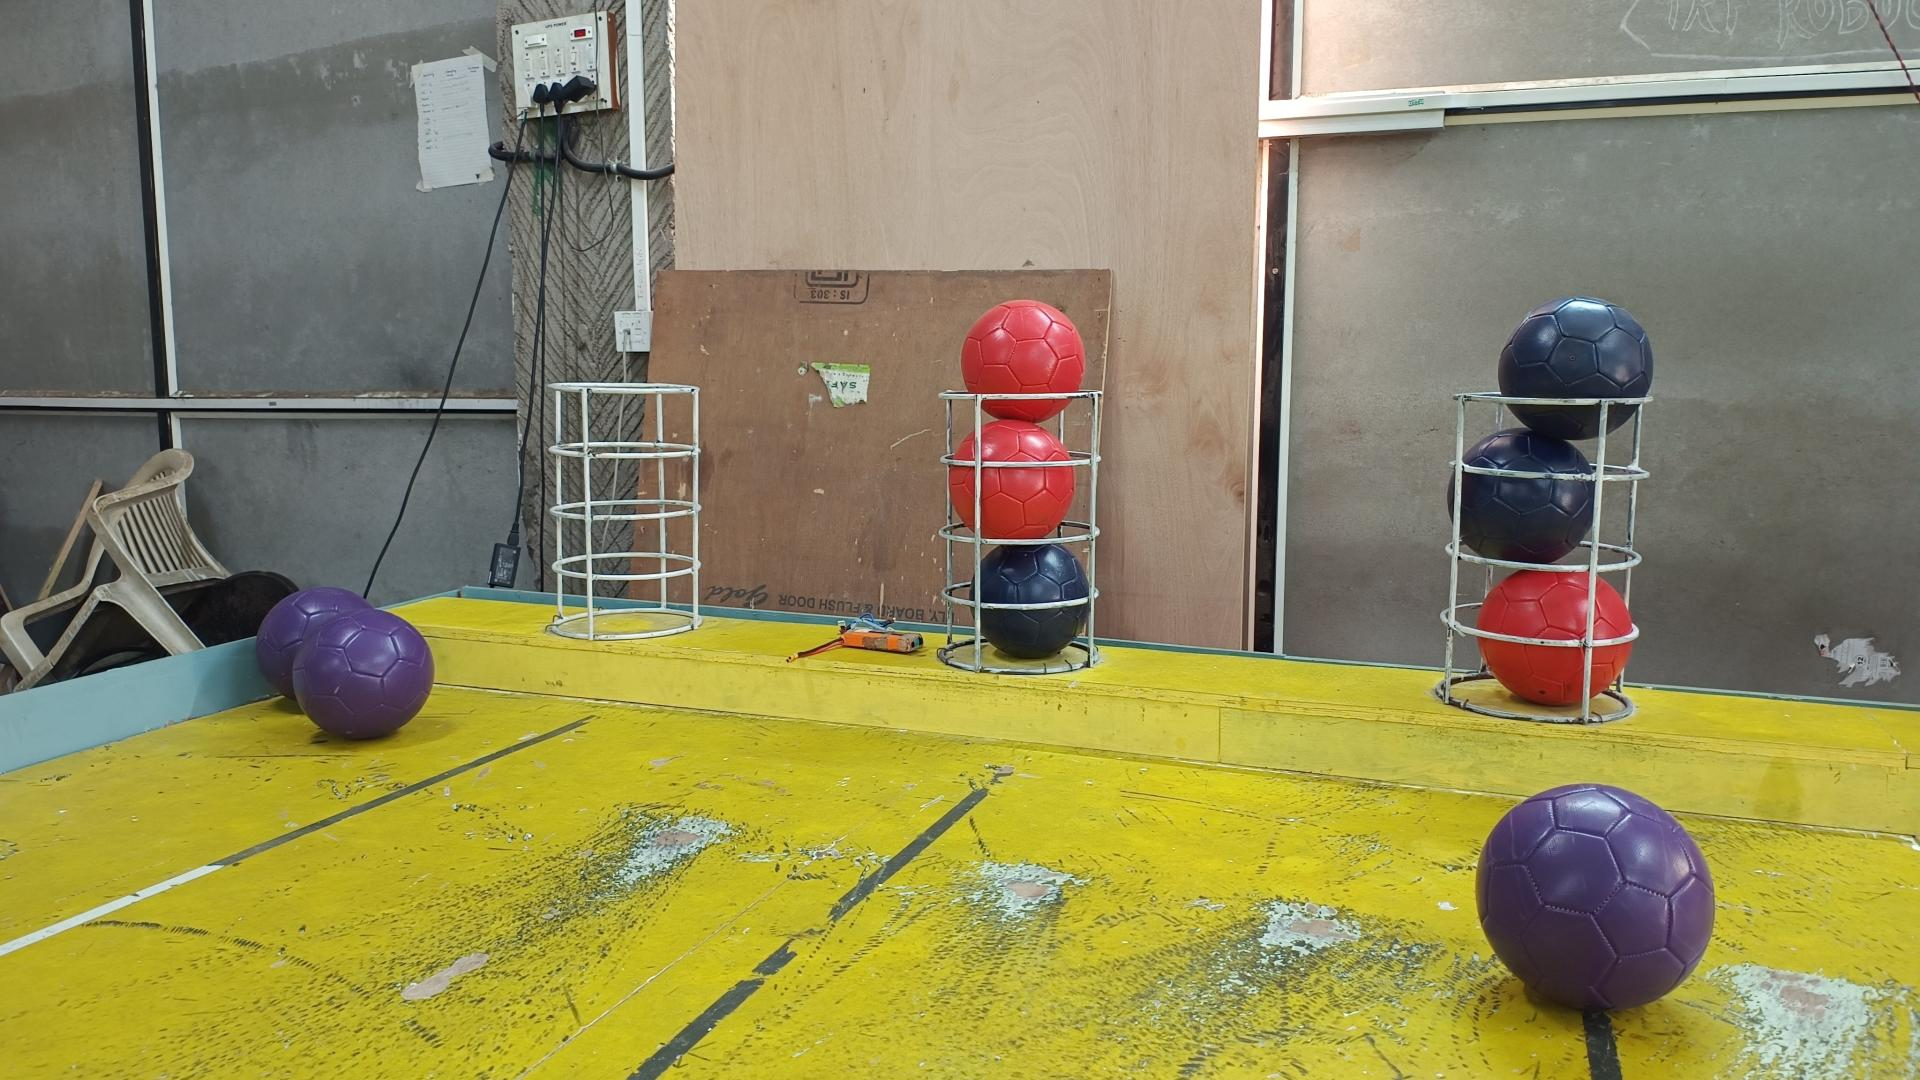dhoka: (1497, 297, 1655, 442), (1449, 426, 1596, 560), (969, 542, 1089, 658)
laale: (1480, 570, 1636, 704), (961, 299, 1085, 423), (948, 418, 1076, 538)
